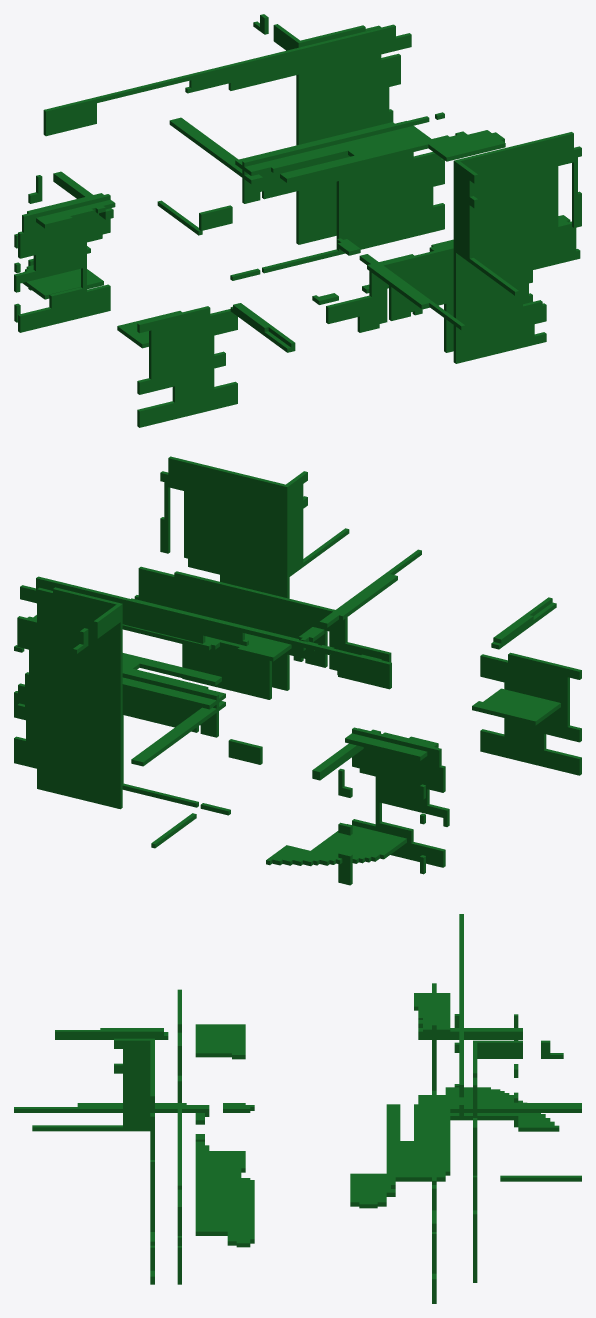
3 renders of one model, top to bottom at view 1: azimuth 30°, elevation 25°; view 2: azimuth 150°, elevation 25°; view 3: azimuth 270°, elevation 25°, orthographic.
Parts seen in each view (by area): view 1: 绿光2; view 2: 绿光2; view 3: 绿光2.
Part boxes in pixels (x1,y1,x2,y2): 绿光2: (14, 14, 581, 427); 绿光2: (14, 456, 581, 885); 绿光2: (14, 914, 581, 1303).
Bounding box in the file's own units: 117 × 49 × 125.
1 material, 1 textured.
